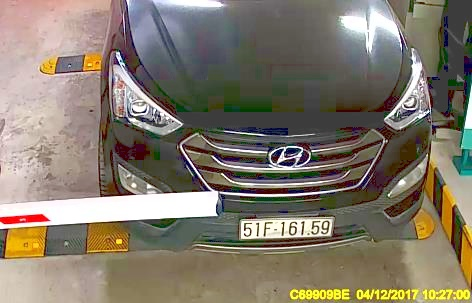plate: (241, 210, 336, 243)
